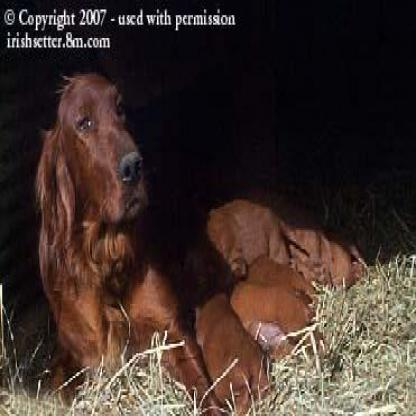Irish_setter: (32, 67, 366, 408)
